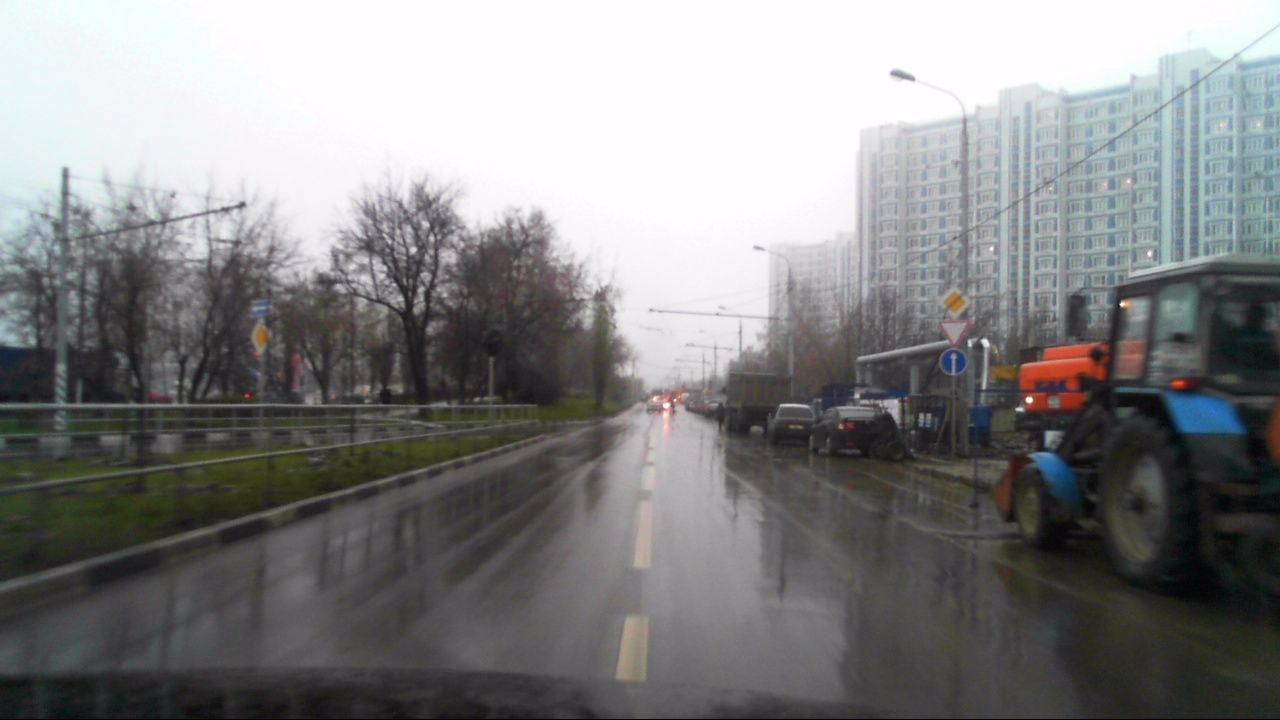main road: (939, 286, 970, 320)
